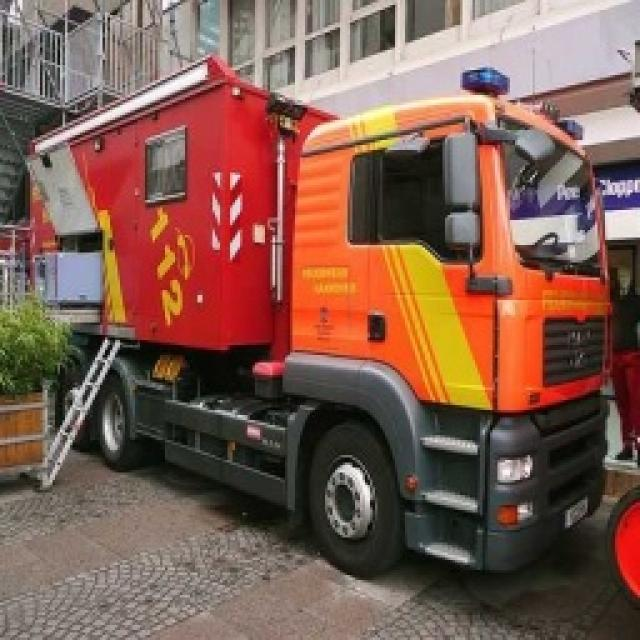emergency-vehicle: (26, 52, 607, 580)
